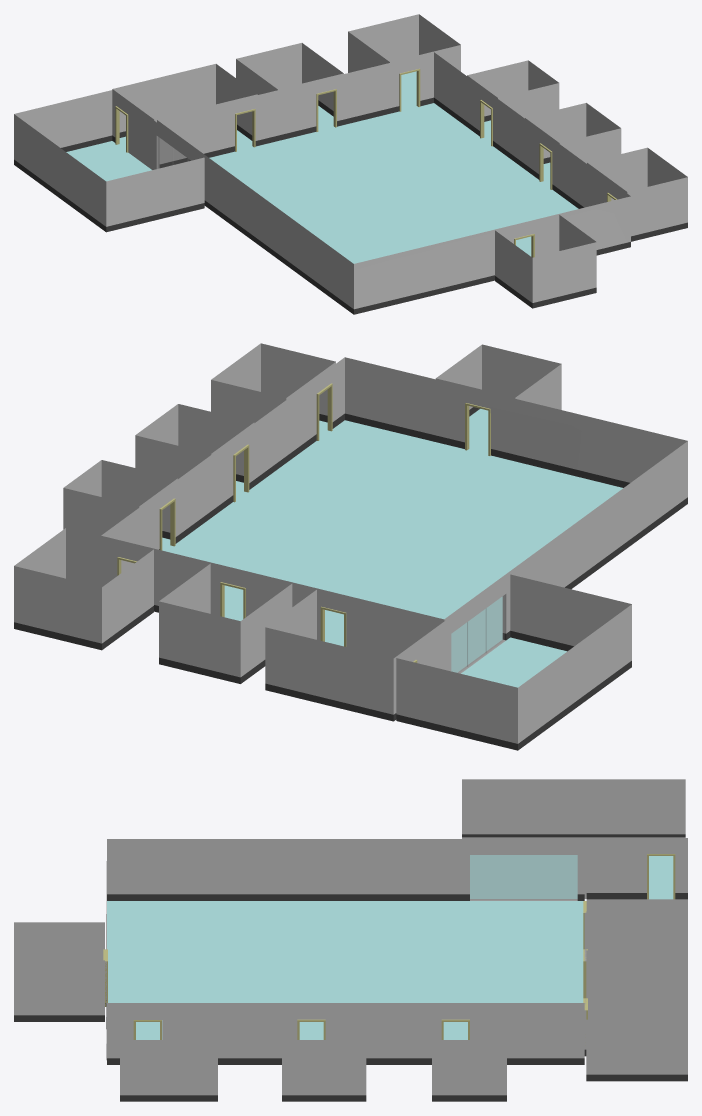
The model's file is mainArea.fbx.
The picture shows the model from 3 angles, top to bottom: view 1: azimuth 30°, elevation 25°; view 2: azimuth 150°, elevation 25°; view 3: azimuth 270°, elevation 25°; orthographic projection. The views are drawn at different scales.
Parts seen in each view (by area): view 1: mainArea; view 2: mainArea; view 3: mainArea.
Part boxes in pixels (x1,y1,x2,y2): mainArea: (14,14,687,314); mainArea: (14,343,687,750); mainArea: (14,779,687,1101).
Bounding box in the file's own units: 3048 × 336 × 3328.
